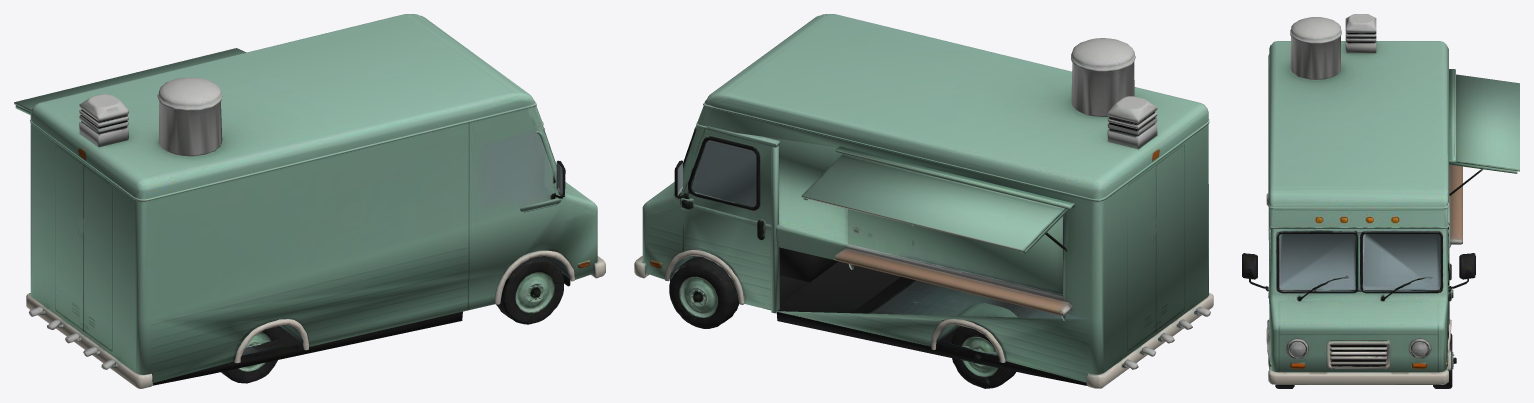
File: foodTruck.glb
The picture shows the model from 3 angles, left to right: view 1: azimuth 30°, elevation 25°; view 2: azimuth 150°, elevation 25°; view 3: azimuth 270°, elevation 25°; orthographic projection. The views are drawn at different scales.
Parts seen in each view (by area): view 1: tripo_node_3ca18cb0-cd7b-4db4-a30b-276d2bdfaffa; view 2: tripo_node_3ca18cb0-cd7b-4db4-a30b-276d2bdfaffa; view 3: tripo_node_3ca18cb0-cd7b-4db4-a30b-276d2bdfaffa.
Boxes of the visible parts, x1=… form: tripo_node_3ca18cb0-cd7b-4db4-a30b-276d2bdfaffa: x1=14, y1=14, x2=605, y2=388; tripo_node_3ca18cb0-cd7b-4db4-a30b-276d2bdfaffa: x1=634, y1=14, x2=1213, y2=388; tripo_node_3ca18cb0-cd7b-4db4-a30b-276d2bdfaffa: x1=1242, y1=14, x2=1519, y2=388.
Size of the model in its own units: 0.998 by 0.5879 by 0.6191.
1 material, 1 textured.
